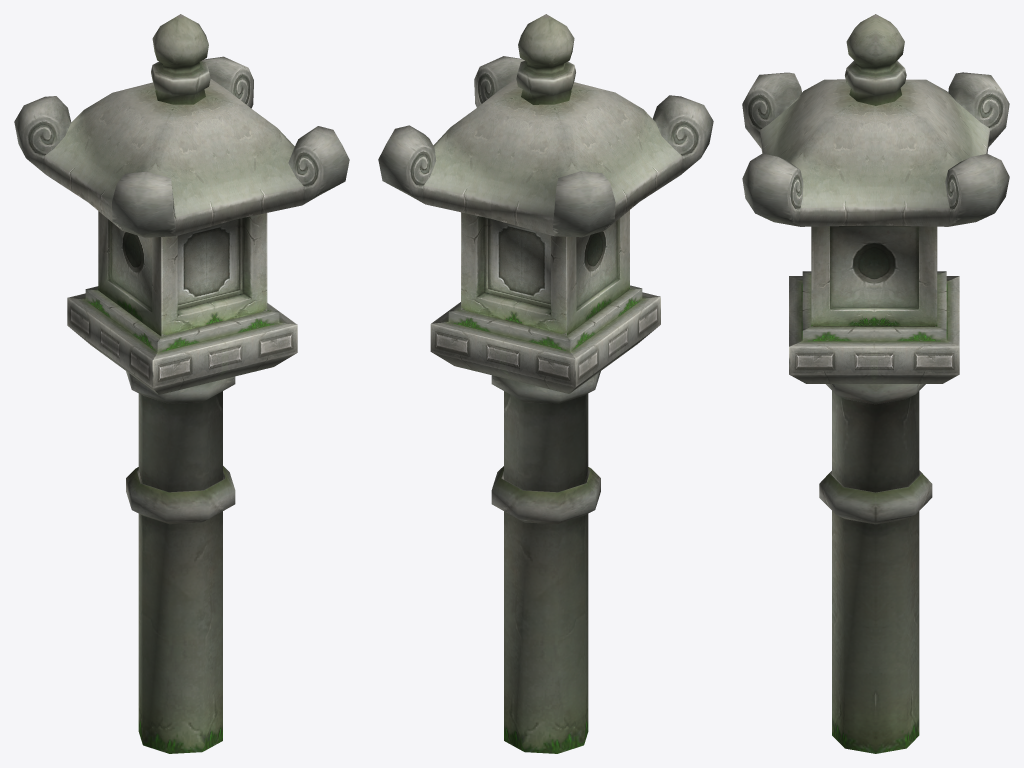
The model's file is xx_shizhu1.FBX.
3 views of the same model, side by side, from view 1: azimuth 30°, elevation 25°; view 2: azimuth 150°, elevation 25°; view 3: azimuth 270°, elevation 25° (orthographic).
Parts seen in each view (by area): view 1: xx_shizhu1; view 2: xx_shizhu1; view 3: xx_shizhu1.
Part boxes in pixels (bbox=[...]): xx_shizhu1: bbox=[14, 14, 349, 753]; xx_shizhu1: bbox=[378, 14, 713, 753]; xx_shizhu1: bbox=[742, 14, 1009, 753].
Size of the model in its own units: 15.01 by 44.72 by 15.03.
